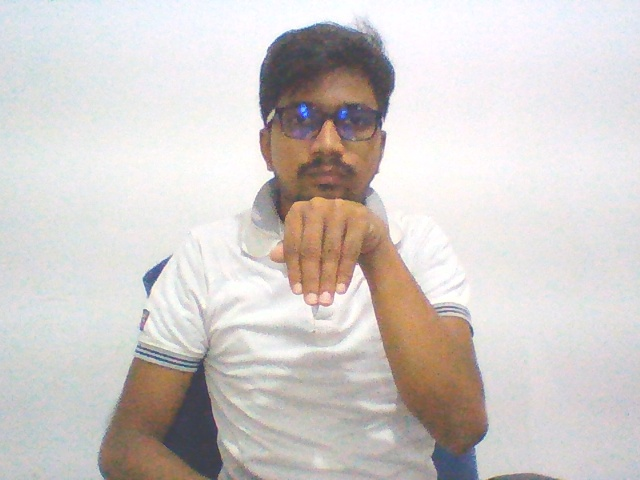Squirrel: (265, 191, 394, 318)
